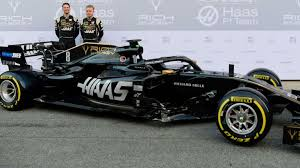FormulaOneCar: (1, 35, 300, 149)
